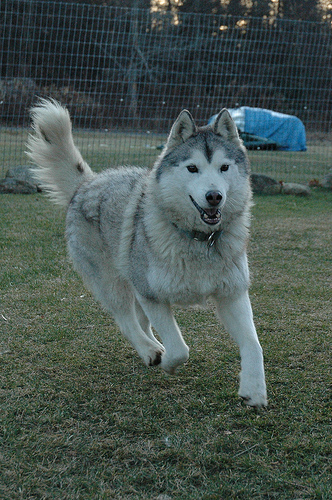dog: (25, 97, 269, 410)
